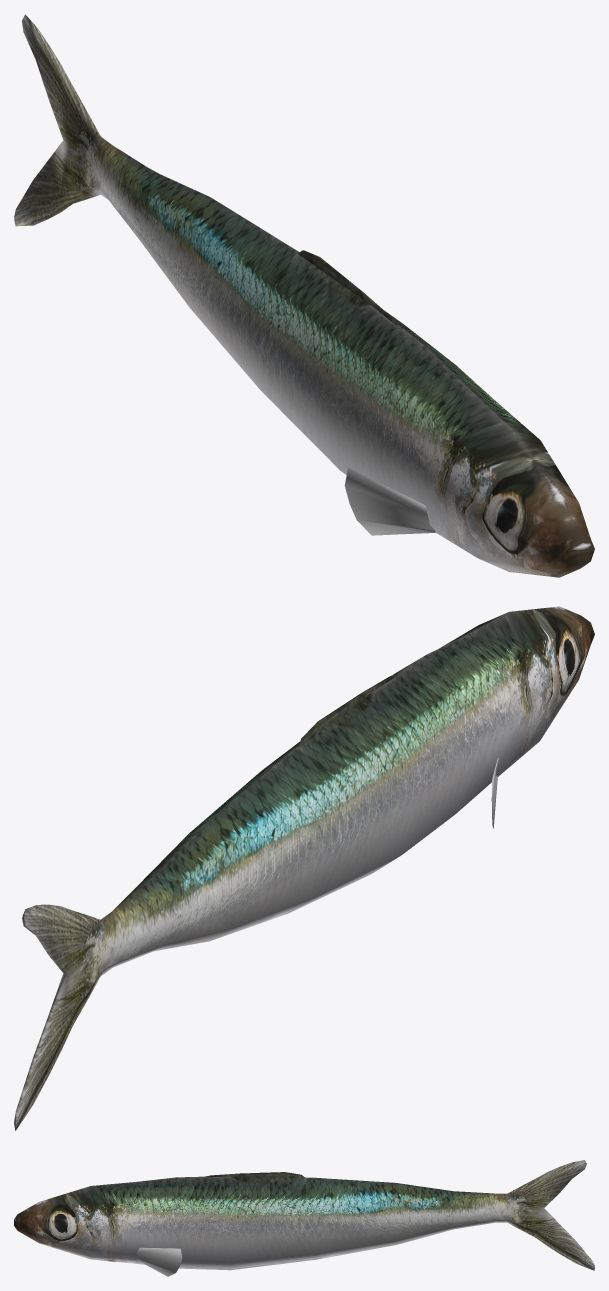
File: SeaBaitFish.fbx
The picture shows the model from 3 angles, top to bottom: view 1: azimuth 30°, elevation 25°; view 2: azimuth 150°, elevation 25°; view 3: azimuth 270°, elevation 25°; orthographic projection. The views are drawn at different scales.
Parts seen in each view (by area): view 1: Obj9o46_18038352_8_380; view 2: Obj9o46_18038352_8_380; view 3: Obj9o46_18038352_8_380.
Boxes of the visible parts, x1,y1,x2,y2 form: Obj9o46_18038352_8_380: (14, 14, 594, 577); Obj9o46_18038352_8_380: (14, 606, 594, 1130); Obj9o46_18038352_8_380: (14, 1160, 594, 1276).
Bounding box in the file's own units: 0.0517 × 0.3485 × 0.0734.
Materials: 1 (1 with a texture image).
